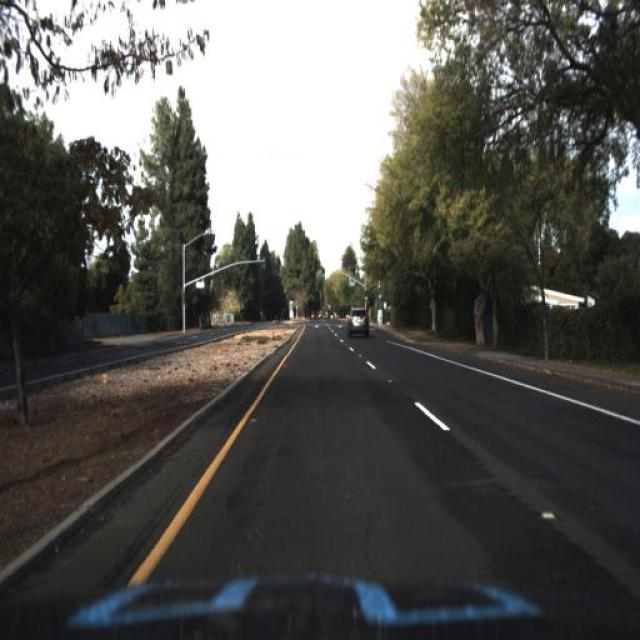car: (347, 304, 371, 340)
trafficLight-GreenLeft: (374, 281, 384, 303), (362, 286, 372, 306), (319, 264, 327, 284)
